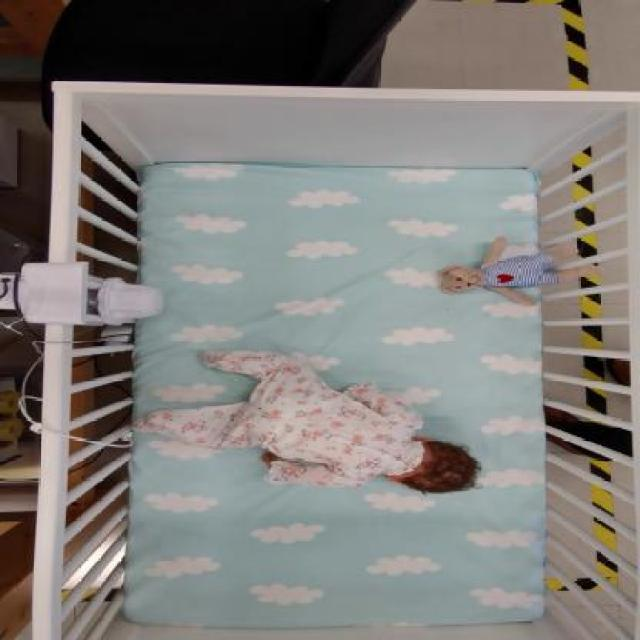baby: (138, 348, 484, 495)
